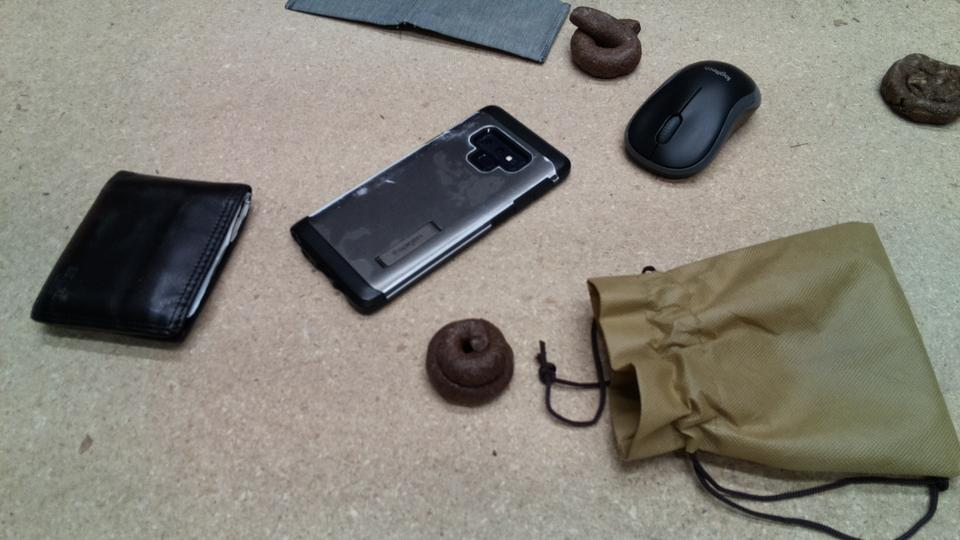poop: (424, 317, 516, 409), (568, 3, 645, 82), (879, 52, 960, 127)
